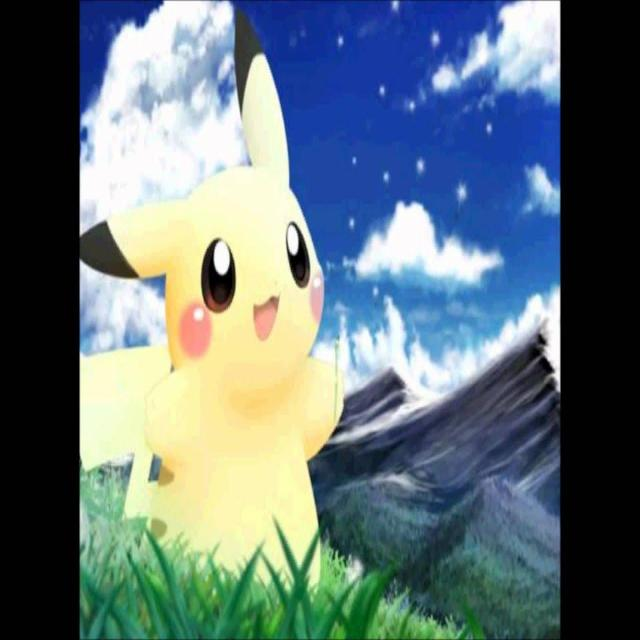pikachu: (79, 14, 349, 596)
